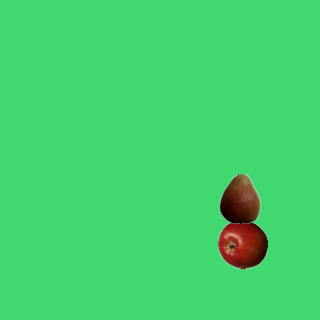Apple Braeburn: (217, 219, 267, 269)
Pear Forelle: (214, 173, 264, 223)
